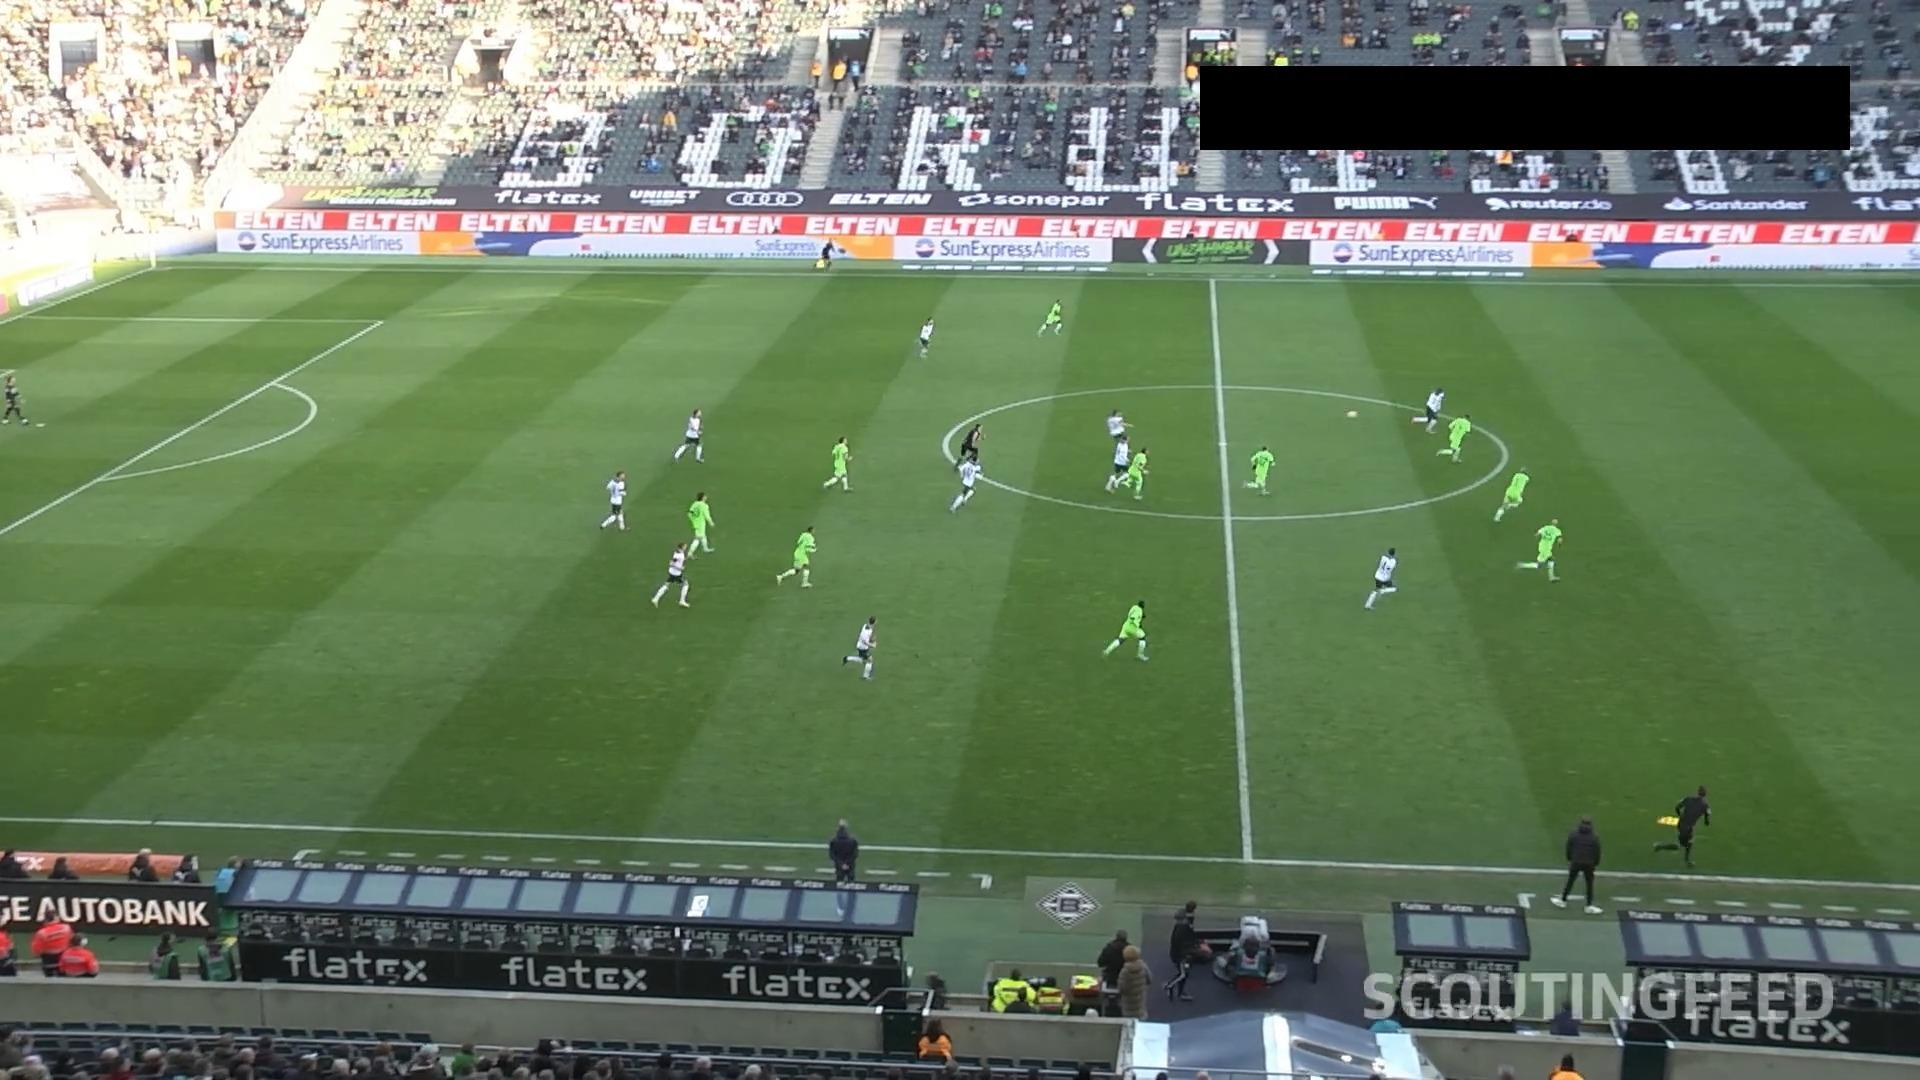ball: (1345, 410, 1357, 418)
coach: (1549, 815, 1603, 913)
player: (1514, 517, 1563, 582), (1101, 598, 1149, 661), (649, 540, 692, 608), (775, 524, 817, 588), (840, 615, 878, 680), (1363, 546, 1398, 609), (947, 451, 981, 513), (685, 490, 715, 558), (1493, 466, 1529, 522), (1114, 444, 1149, 499), (672, 407, 705, 463), (599, 469, 628, 530), (821, 435, 852, 492), (1436, 414, 1472, 462), (1411, 386, 1445, 434), (1105, 436, 1133, 493), (0, 370, 29, 425), (1243, 444, 1274, 495), (1105, 408, 1133, 446), (1036, 298, 1063, 337), (917, 316, 934, 358)
referee: (1651, 784, 1711, 866), (1163, 908, 1206, 1002), (1096, 928, 1132, 1015), (827, 818, 858, 884), (810, 236, 838, 278), (957, 421, 984, 464)
